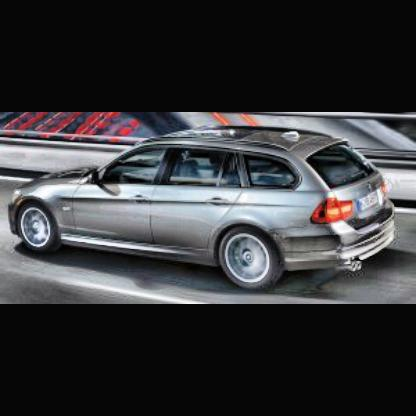BMW 3 Series Wagon 2012: (10, 128, 398, 298)
